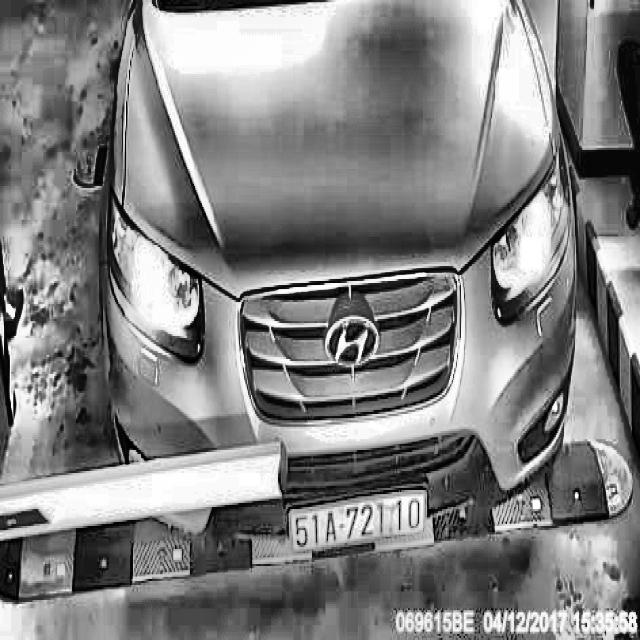plate: (288, 486, 429, 563)
